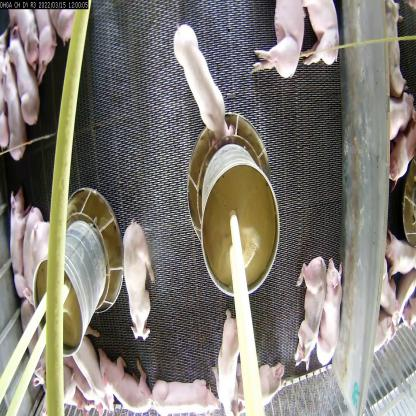Pig: (168, 21, 232, 142), (251, 0, 305, 93), (118, 218, 155, 344), (95, 347, 150, 415), (66, 323, 108, 410), (313, 252, 344, 366), (226, 358, 283, 416), (216, 307, 246, 415), (18, 208, 50, 303), (3, 188, 30, 298), (294, 261, 322, 365), (150, 378, 225, 415), (301, 1, 345, 64), (9, 33, 35, 124)
